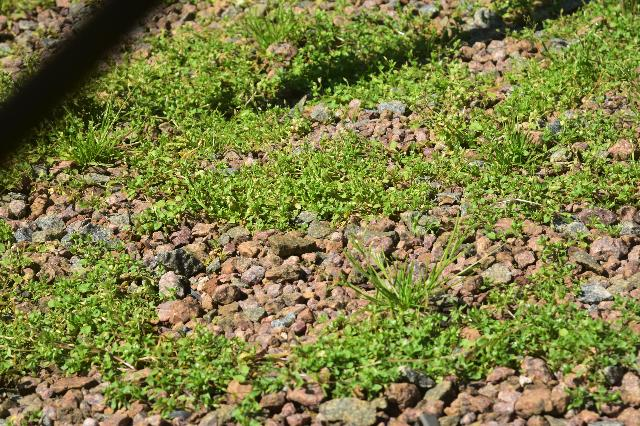MalezaMontesDelPlata: (0, 223, 161, 412), (140, 134, 445, 224), (454, 276, 640, 385), (451, 121, 640, 221), (498, 2, 637, 124), (317, 5, 460, 115), (136, 49, 309, 129), (337, 223, 480, 317), (279, 311, 452, 387), (161, 325, 278, 423), (46, 63, 141, 174), (240, 0, 308, 49)
